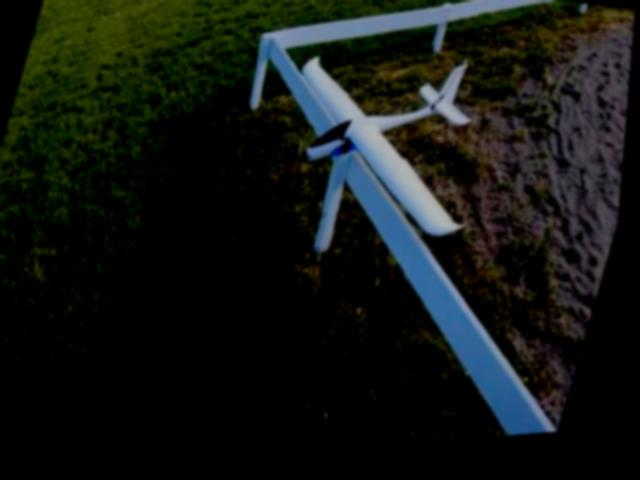iha: (257, 24, 521, 262)
